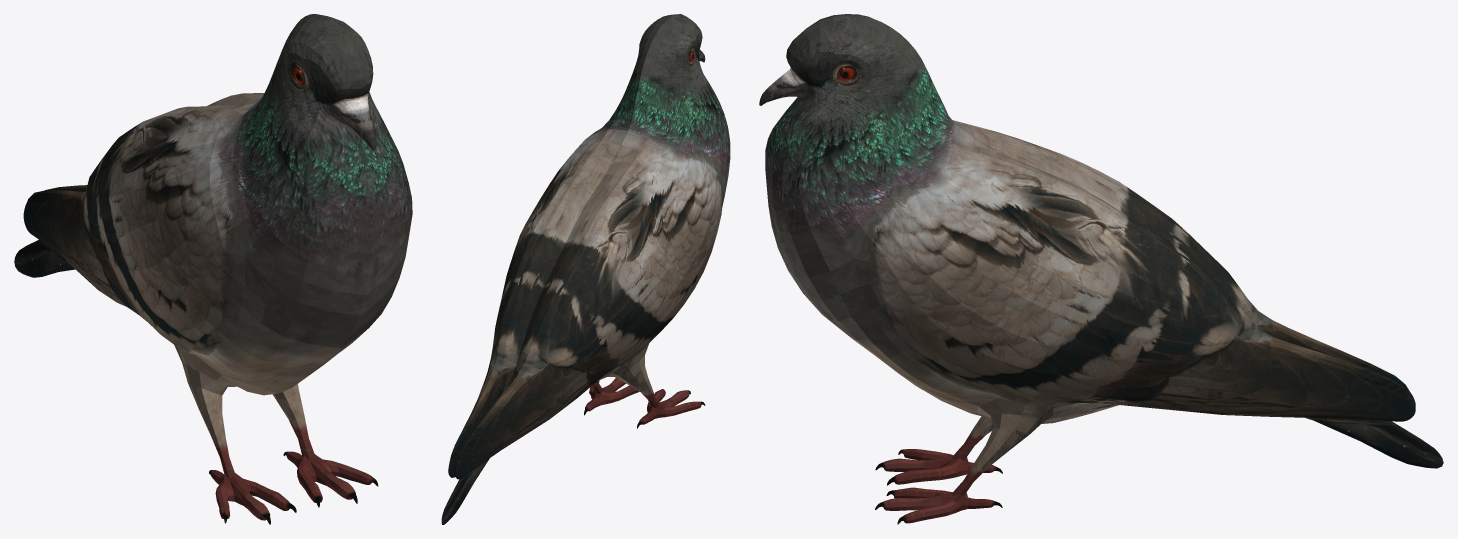
The model's file is pigeon2.fbx.
The picture shows the model from 3 angles, left to right: view 1: azimuth 30°, elevation 25°; view 2: azimuth 150°, elevation 25°; view 3: azimuth 270°, elevation 25°; orthographic projection. The views are drawn at different scales.
Parts seen in each view (by area): view 1: pigeon2; view 2: pigeon2; view 3: pigeon2.
Boxes of the visible parts, x1,y1,x2,y2 form: pigeon2: (14, 14, 412, 524); pigeon2: (441, 14, 730, 524); pigeon2: (759, 14, 1443, 524).
Size of the model in its own units: 62.07 by 149 by 194.
Materials: 1 (1 with a texture image).
